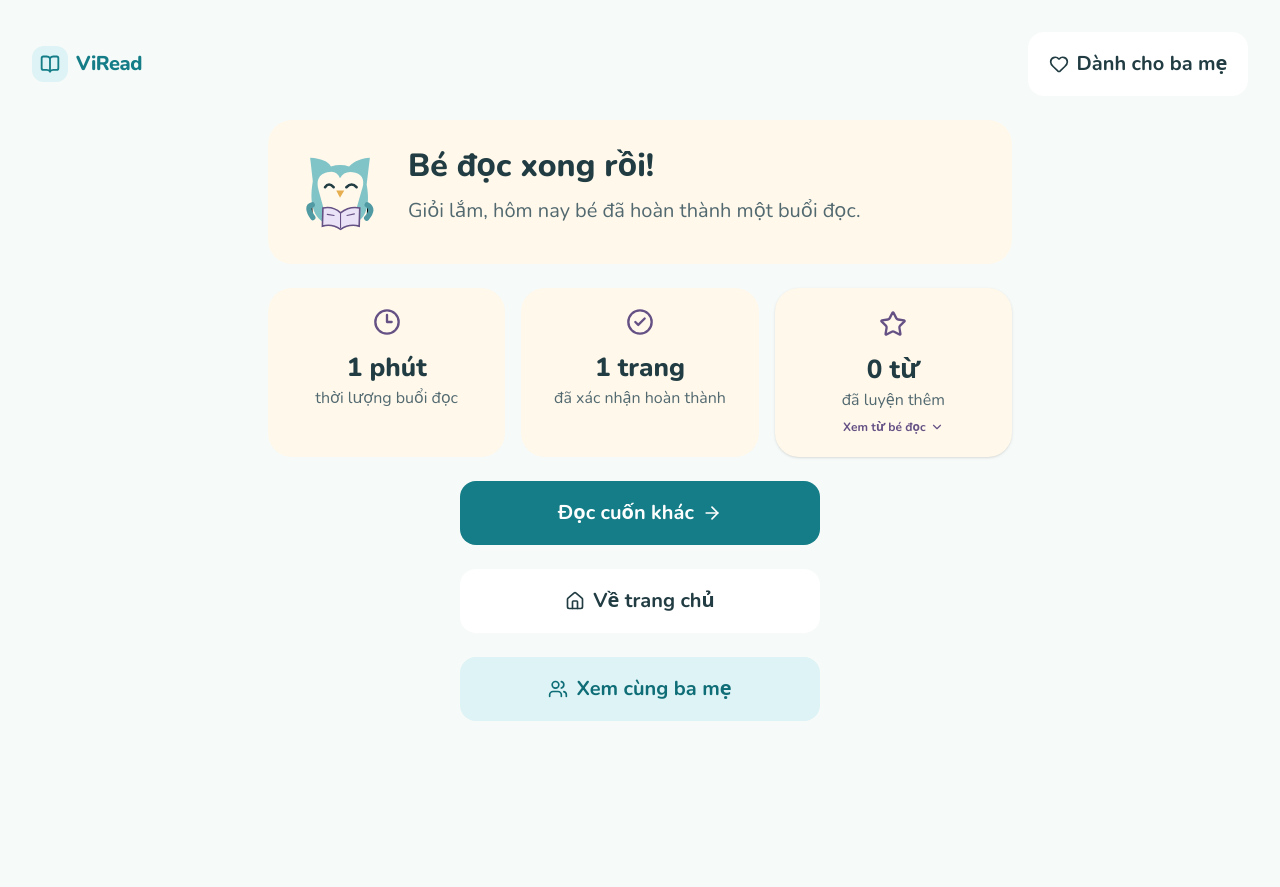
Test: SessionComplete component › renders helpful message when no words were captured by STT
The width and height of the screenshot is (1280, 887).
Click the button "0 từ đã luyện thêm Xem từ bé đọc" at (893,373), box [775, 288, 1012, 457]
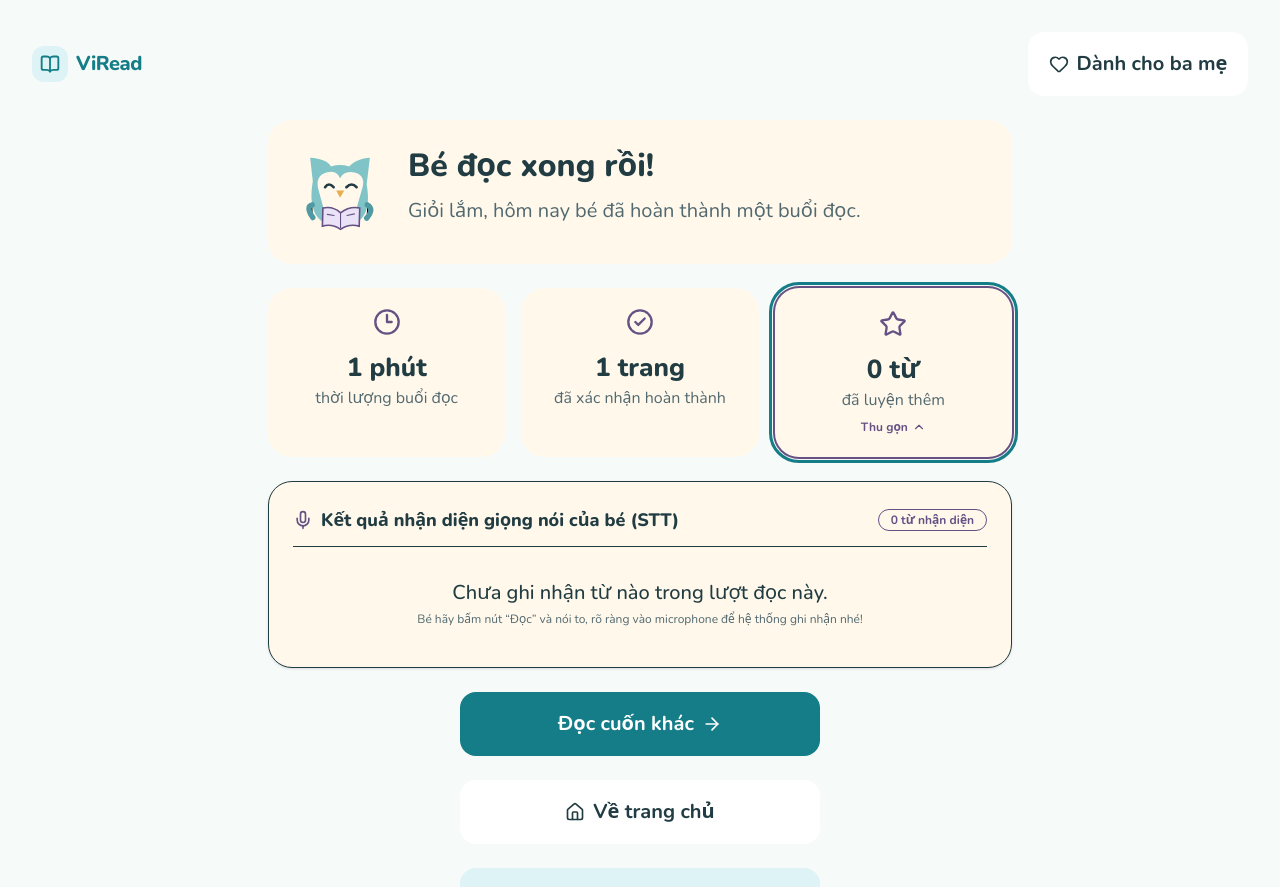
expect the element with test id "spoken-words-container" is shown: met, box [268, 481, 1012, 668]
expect the text "Chưa ghi nhận từ nào trong lượt đọc này." is shown: met, box [452, 579, 828, 606]
